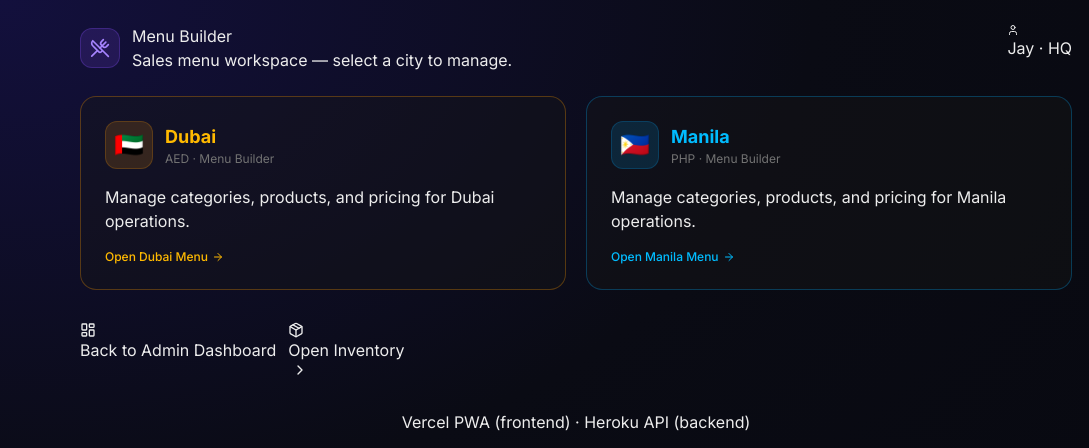
Scenario: AdminMenuPage — CityMenuBuilder view › back button from city view returns to city picker
The width and height of the screenshot is (1089, 448).
Expected: the heading "Menu Builder" is shown, [132,26,232,46]
What coordinates should you click on to do the following:
click the button that starts with "Dubai"
I would click on:
 (323, 193)
Its box is [80,96,566,290].
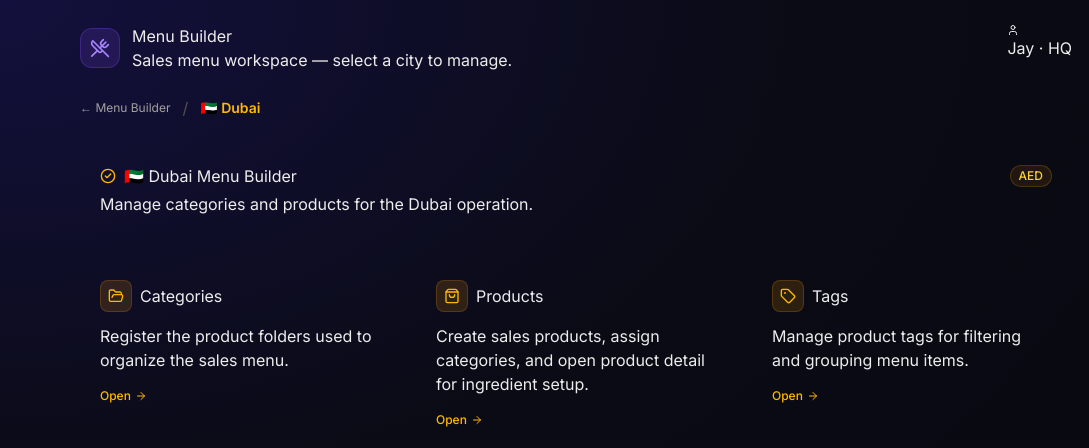
Now the heading "🇦🇪 Dubai Menu Builder" is shown, box [124,164,297,188]
What coordinates should you click on to do the following:
click the button "← Menu Builder"
I would click on:
 (125, 108)
Its box is [80,100,170,116].
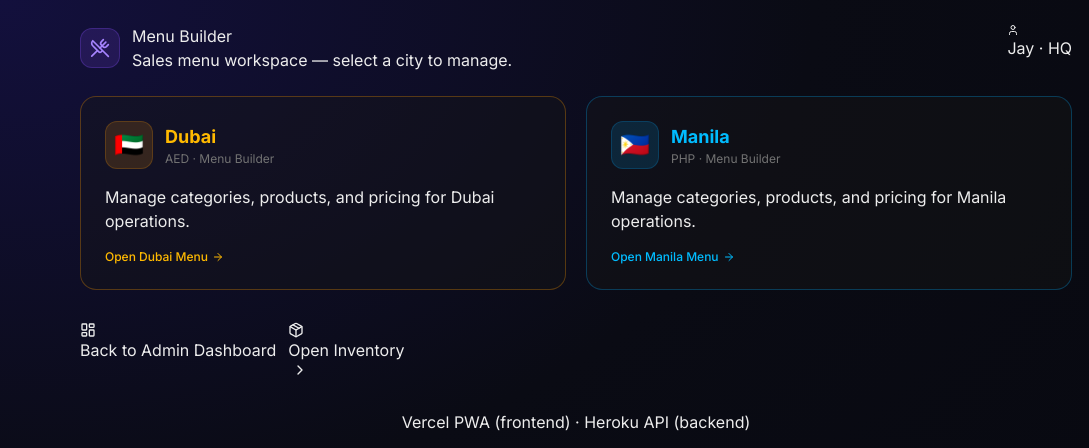
Now the button "Dubai" is shown, box [80,96,566,290]
Now the button "Manila" is shown, box [586,96,1072,290]
